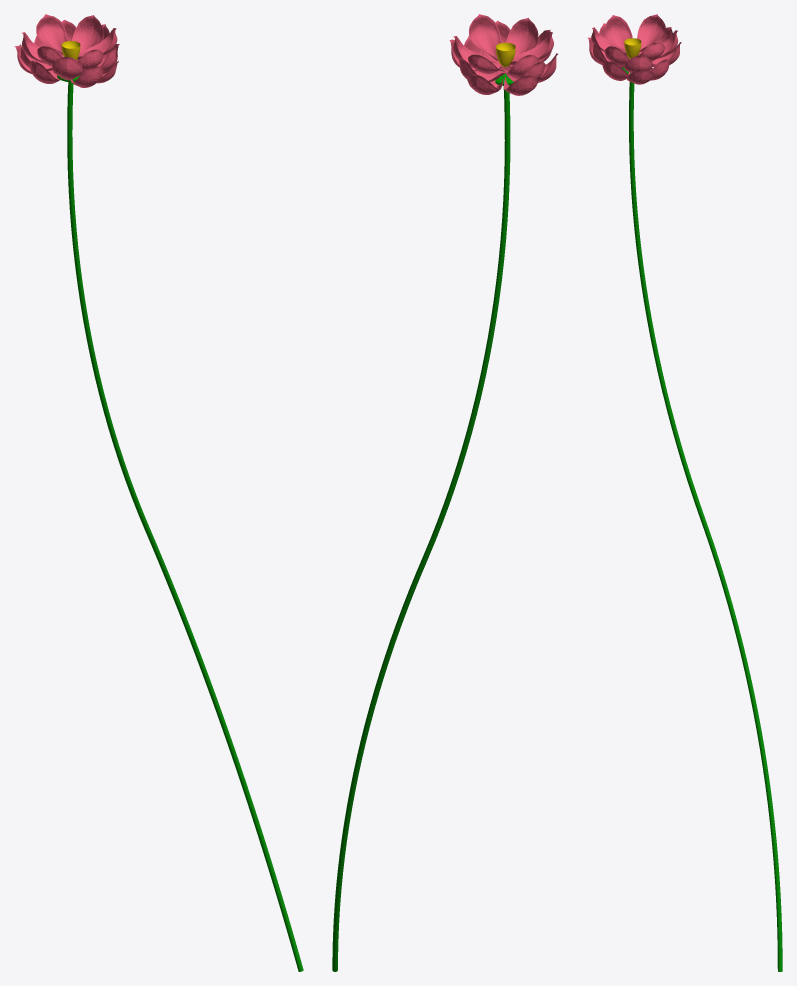
File: Lotus087.fbx
3 renders of one model, left to right at view 1: azimuth 30°, elevation 25°; view 2: azimuth 150°, elevation 25°; view 3: azimuth 330°, elevation 25°, orthographic. The views are drawn at different scales.
Visible parts, largest first — view 1: pCylinder5, nurbsToPoly23, nurbsToPoly19; view 2: pCylinder5, nurbsToPoly22, nurbsToPoly18, nurbsToPoly10; view 3: pCylinder5, nurbsToPoly23, nurbsToPoly20.
Boxes of the visible parts, x1,y1,x2,y2 form: pCylinder5: [67, 82, 303, 971]; nurbsToPoly23: [36, 14, 67, 55]; nurbsToPoly19: [72, 15, 102, 52]; pCylinder5: [332, 86, 510, 971]; nurbsToPoly22: [469, 14, 501, 61]; nurbsToPoly18: [506, 17, 538, 65]; nurbsToPoly10: [467, 73, 504, 94]; pCylinder5: [629, 82, 782, 971]; nurbsToPoly23: [637, 14, 665, 51]; nurbsToPoly20: [604, 15, 632, 48].
Size of the model in its own units: 52.45 by 200 by 24.27.
